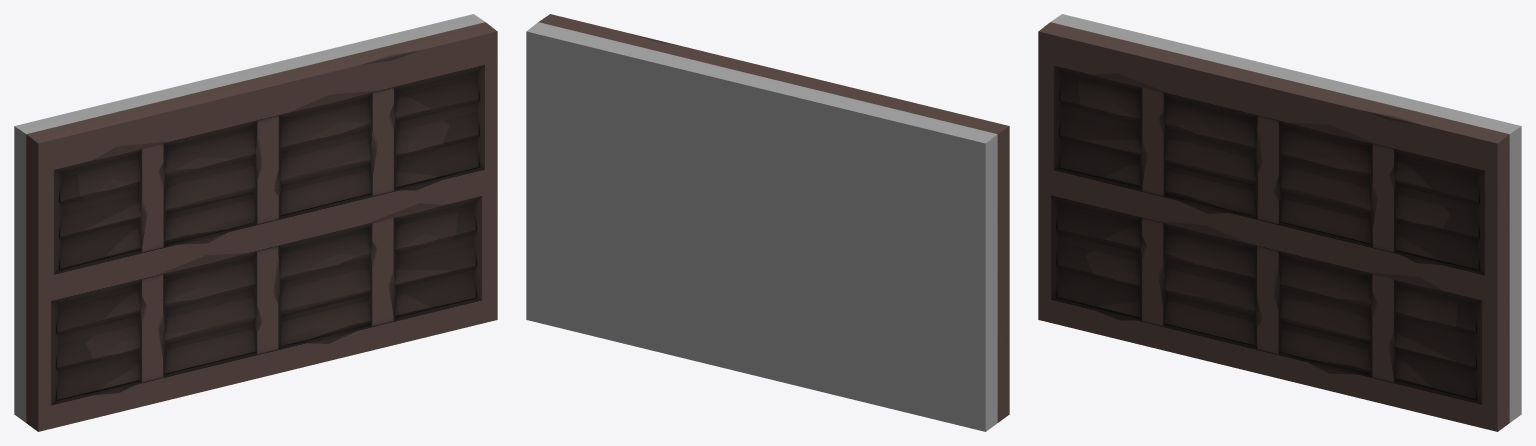
File: SM_Bld_Wall_Block_01.fbx
3 renders of one model, left to right at view 1: azimuth 30°, elevation 25°; view 2: azimuth 150°, elevation 25°; view 3: azimuth 330°, elevation 25°, orthographic.
Visible parts, largest first — view 1: SM_Bld_Wall_Block_01; view 2: SM_Bld_Wall_Block_01; view 3: SM_Bld_Wall_Block_01.
Part boxes in pixels (x1,y1,x2,y2): SM_Bld_Wall_Block_01: (14,14,497,431); SM_Bld_Wall_Block_01: (526,14,1009,431); SM_Bld_Wall_Block_01: (1038,14,1521,431).
Size of the model in its own units: 250 by 150 by 22.5.
